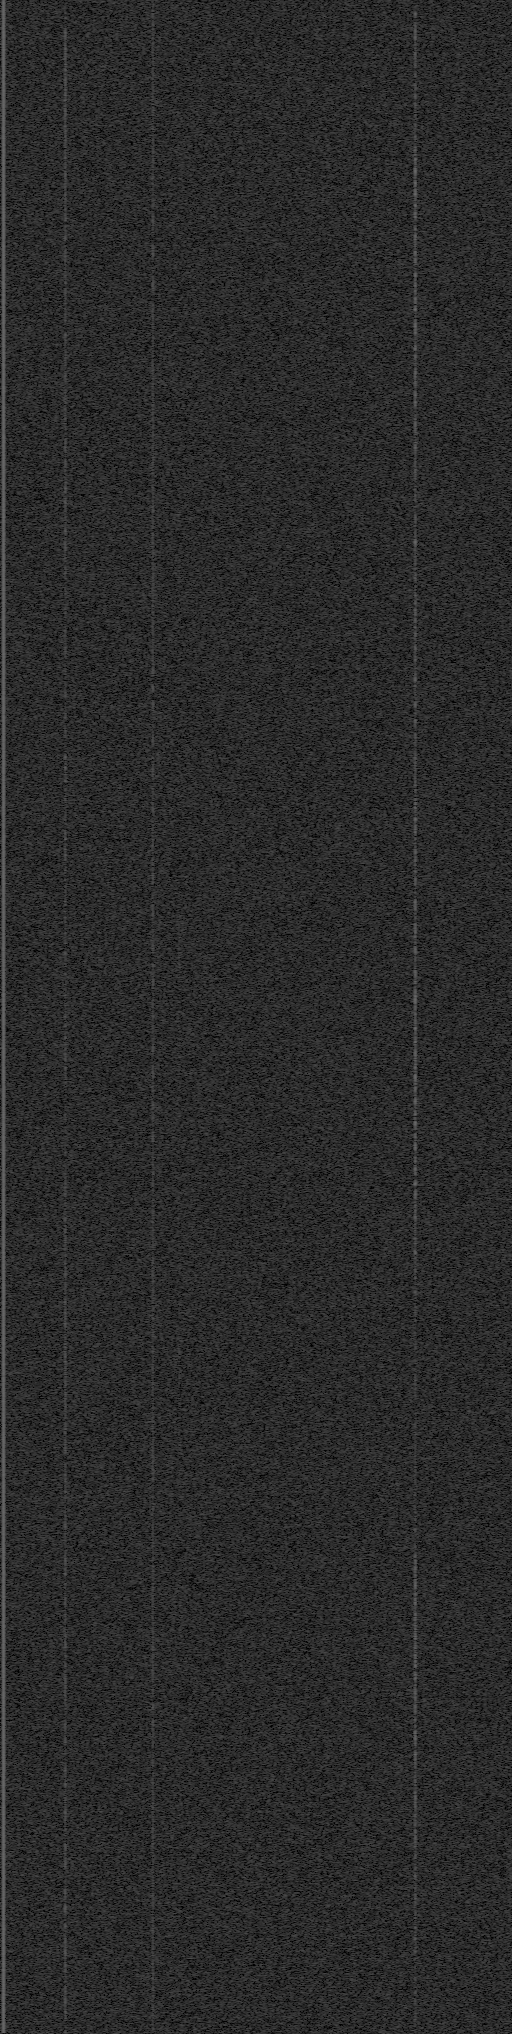wv_am: (150, 0, 156, 678), (150, 1062, 156, 1698), (150, 682, 156, 1059), (150, 1701, 156, 2033)
wv_cw: (1, 0, 6, 2033)
wv_lsb: (178, 900, 181, 947), (178, 1363, 181, 1396), (178, 948, 181, 979), (178, 1035, 181, 1059), (178, 566, 181, 589), (178, 521, 181, 544), (178, 1341, 181, 1362), (178, 1008, 181, 1029), (178, 161, 181, 179), (178, 119, 181, 136), (178, 1789, 181, 1804), (178, 1112, 181, 1126), (178, 669, 181, 684), (178, 239, 181, 252), (178, 192, 181, 205), (178, 1240, 181, 1253), (178, 994, 181, 1007), (178, 1824, 181, 1836), (178, 1769, 181, 1781), (178, 1750, 181, 1762), (178, 1599, 181, 1611), (178, 606, 181, 617), (178, 551, 181, 563), (178, 214, 181, 224), (178, 1415, 181, 1426), (178, 1398, 181, 1409), (178, 1094, 181, 1104), (178, 630, 181, 641), (178, 590, 181, 601), (178, 510, 181, 520), (178, 228, 181, 237), (178, 145, 181, 154), (178, 1640, 181, 1649), (178, 1472, 181, 1481), (178, 1427, 181, 1436), (178, 1217, 181, 1226), (178, 1864, 181, 1873), (178, 494, 181, 502), (178, 471, 181, 479), (178, 346, 181, 354), (178, 278, 181, 285), (178, 1663, 181, 1671), (178, 1618, 181, 1625), (178, 1544, 181, 1551), (178, 1525, 181, 1533), (178, 1315, 181, 1323), (178, 1289, 181, 1297), (178, 1204, 181, 1212), (178, 1192, 181, 1200), (178, 1173, 181, 1180), (178, 1068, 181, 1075), (178, 206, 181, 213), (178, 105, 181, 112), (178, 34, 181, 40), (178, 1227, 181, 1234), (178, 1182, 181, 1188), (178, 1059, 181, 1065), (178, 986, 181, 992), (178, 658, 181, 664), (178, 544, 181, 550), (178, 416, 181, 422), (178, 393, 181, 398), (178, 1845, 181, 1850), (178, 318, 181, 323), (178, 305, 181, 310), (178, 154, 181, 160), (178, 60, 181, 65), (178, 51, 181, 56), (178, 25, 181, 30), (178, 1782, 181, 1788), (178, 1737, 181, 1742), (178, 1698, 181, 1703), (178, 1593, 181, 1598), (178, 1554, 181, 1559), (178, 1489, 181, 1494), (178, 1446, 181, 1452), (178, 1440, 181, 1445), (178, 1302, 181, 1308), (178, 1960, 181, 1965), (178, 1266, 181, 1271), (178, 1134, 181, 1139), (178, 1105, 181, 1110), (178, 979, 181, 985), (178, 870, 181, 876), (178, 1874, 181, 1880), (178, 752, 181, 758), (178, 2028, 181, 2031), (178, 1851, 181, 1855), (178, 448, 181, 451), (178, 444, 181, 448), (178, 409, 181, 413), (178, 379, 181, 383), (178, 336, 181, 340), (178, 287, 181, 291), (178, 259, 181, 263), (178, 47, 181, 51), (178, 1810, 181, 1813), (178, 2012, 181, 2016), (178, 1727, 181, 1730), (178, 1976, 181, 1980), (178, 1538, 181, 1542), (178, 1509, 181, 1513), (178, 1496, 181, 1500), (178, 1972, 181, 1976), (178, 1410, 181, 1414), (178, 1326, 181, 1330), (178, 1298, 181, 1302), (178, 1286, 181, 1289), (178, 1274, 181, 1278), (178, 1164, 181, 1167), (178, 1145, 181, 1149), (178, 1142, 181, 1145), (178, 1081, 181, 1084), (178, 1881, 181, 1885), (178, 804, 181, 808), (178, 784, 181, 787), (178, 776, 181, 780), (178, 758, 181, 761), (178, 719, 181, 723), (178, 700, 181, 704), (178, 685, 181, 689), (178, 665, 181, 669), (178, 2017, 181, 2020), (178, 366, 181, 368), (178, 301, 181, 304), (178, 1839, 181, 1842), (178, 187, 181, 189), (178, 182, 181, 184), (178, 138, 181, 140), (178, 70, 181, 73), (178, 1765, 181, 1768), (178, 1942, 181, 1944), (178, 1088, 181, 1091), (178, 654, 181, 656), (178, 619, 181, 621), (178, 602, 181, 604)
wv_usb: (412, 134, 417, 944), (64, 1135, 67, 1472), (64, 8, 67, 326), (412, 1121, 417, 1324), (412, 1671, 417, 1871), (412, 946, 417, 1119), (64, 883, 67, 1084), (64, 435, 67, 621), (412, 1538, 417, 1669), (64, 623, 67, 791), (64, 1871, 67, 2033), (64, 1716, 67, 1871), (64, 1593, 67, 1715), (64, 328, 67, 435), (413, 1439, 417, 1537), (64, 793, 67, 883), (413, 6, 417, 80), (64, 1474, 67, 1545), (413, 1350, 417, 1407), (64, 1086, 67, 1134), (413, 1937, 417, 1983), (413, 86, 417, 132), (413, 1989, 417, 2033), (413, 1893, 417, 1935), (64, 1546, 67, 1589), (413, 1409, 417, 1437), (413, 1326, 417, 1350), (413, 1872, 417, 1882), (413, 1884, 417, 1893), (413, 1983, 417, 1989), (413, 80, 417, 84)
